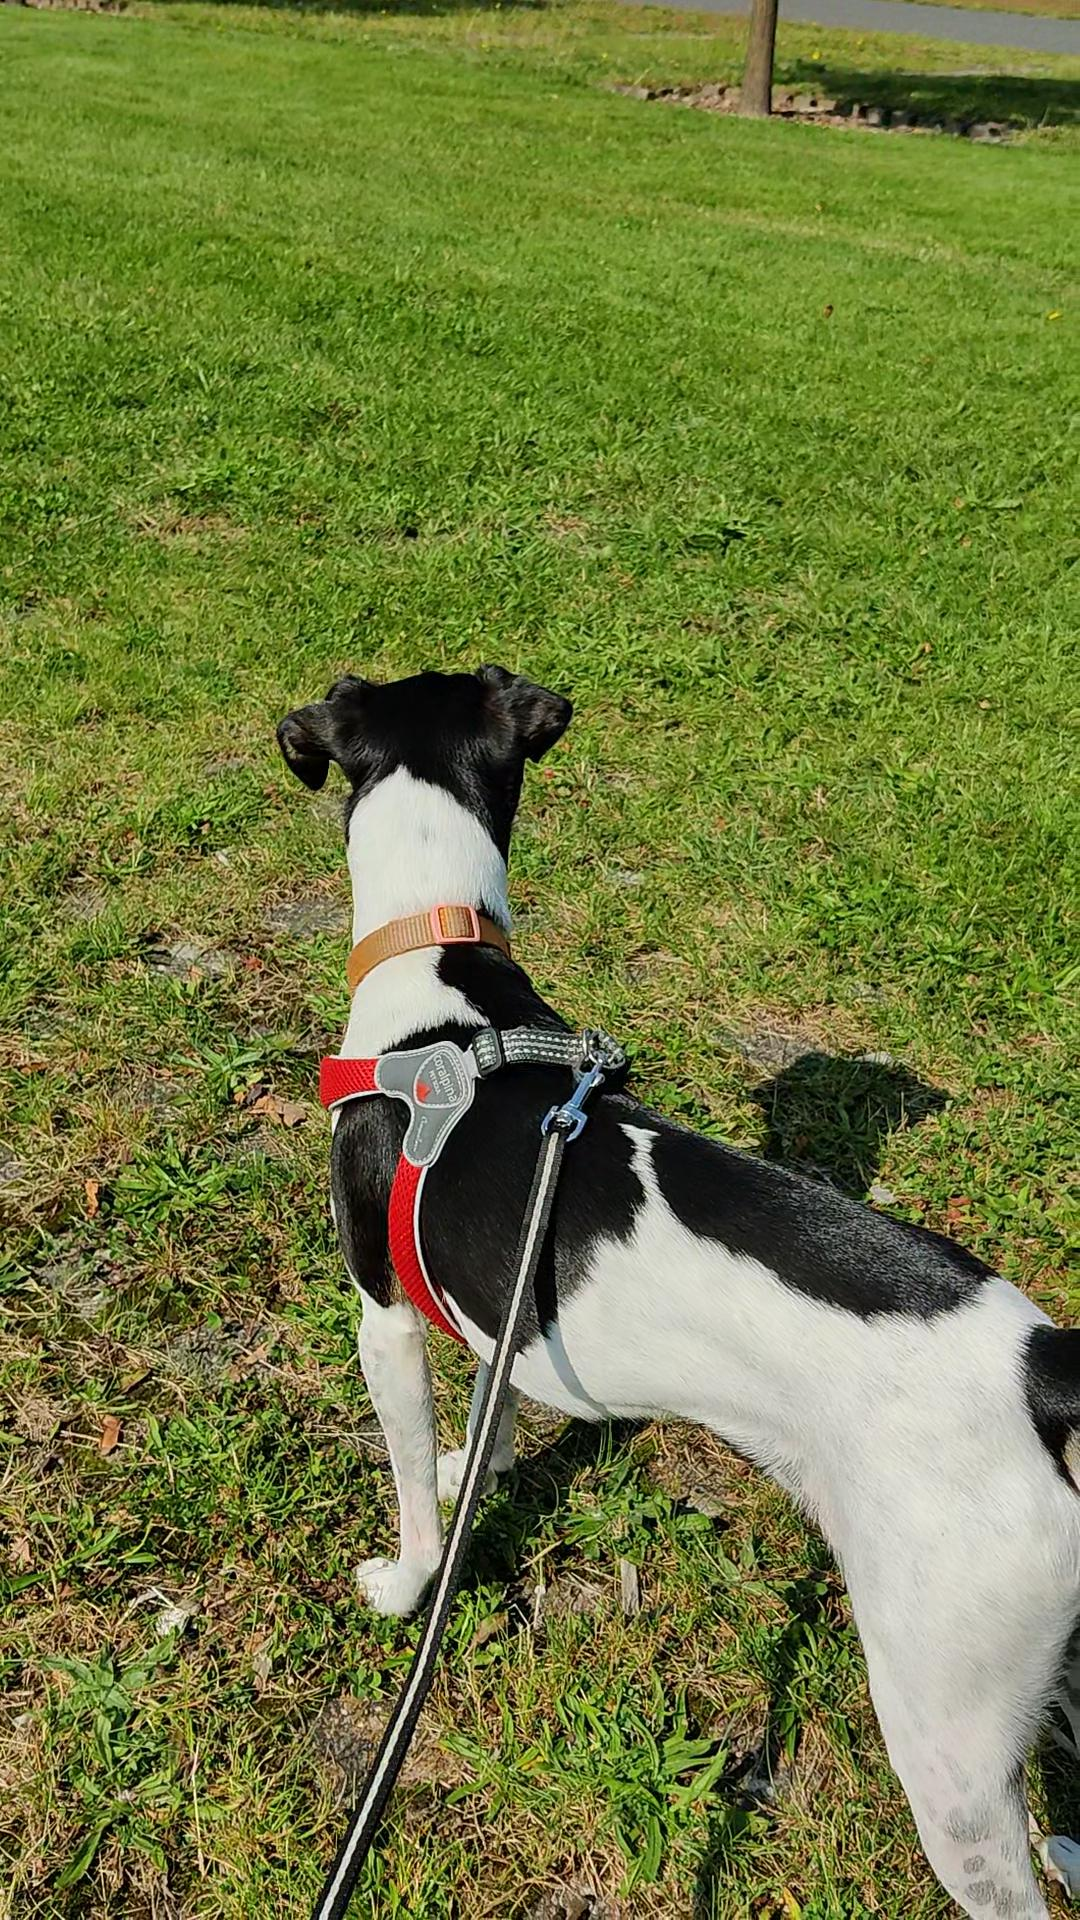Dog: (266, 655, 1079, 1919)
